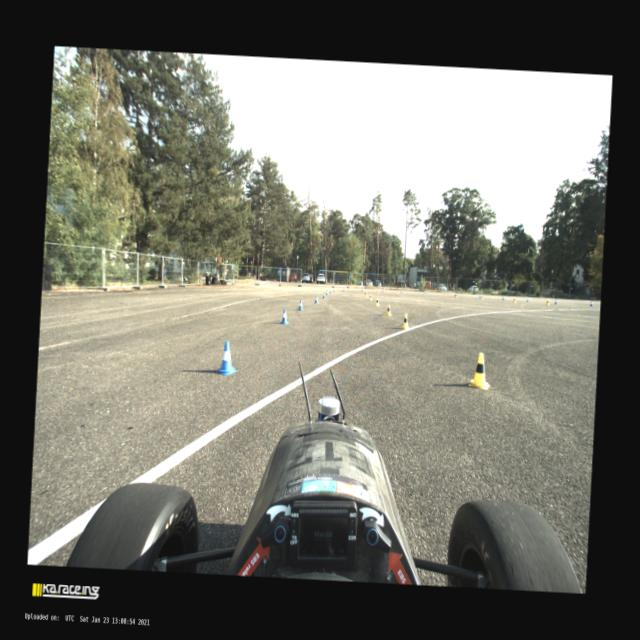blue_cone: (216, 340, 239, 375), (280, 308, 290, 324), (298, 299, 304, 311), (314, 295, 318, 303), (590, 300, 594, 307), (555, 298, 558, 305), (329, 288, 332, 294), (325, 290, 328, 296), (478, 294, 482, 298), (526, 298, 530, 302), (323, 293, 326, 298), (502, 295, 504, 300), (343, 287, 345, 292), (454, 292, 456, 296), (425, 290, 427, 294), (400, 290, 402, 294), (333, 288, 335, 292), (382, 289, 384, 293), (361, 288, 363, 292), (479, 294, 481, 298)
yellow_cone: (470, 352, 490, 388), (402, 312, 409, 328), (386, 304, 392, 316), (376, 298, 380, 306), (369, 293, 372, 301), (546, 300, 550, 306), (513, 298, 517, 303), (481, 296, 484, 300), (456, 292, 458, 298), (365, 292, 368, 296), (396, 289, 398, 294), (424, 292, 426, 296), (376, 290, 378, 294)
